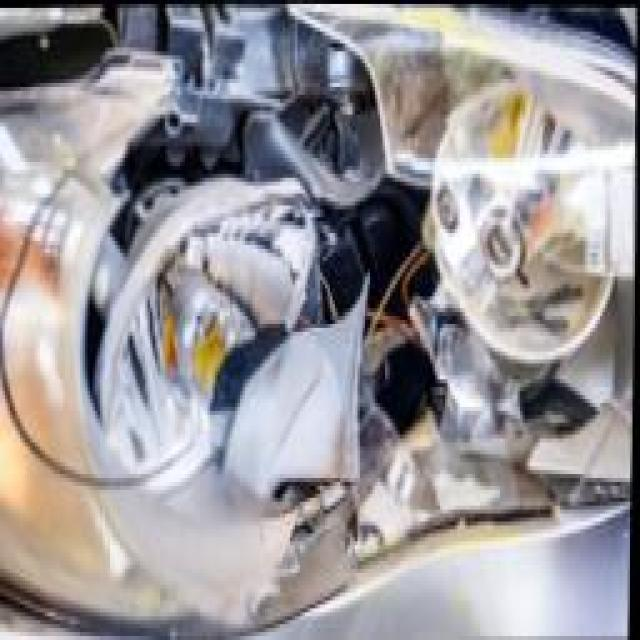Light: (0, 4, 640, 543)
